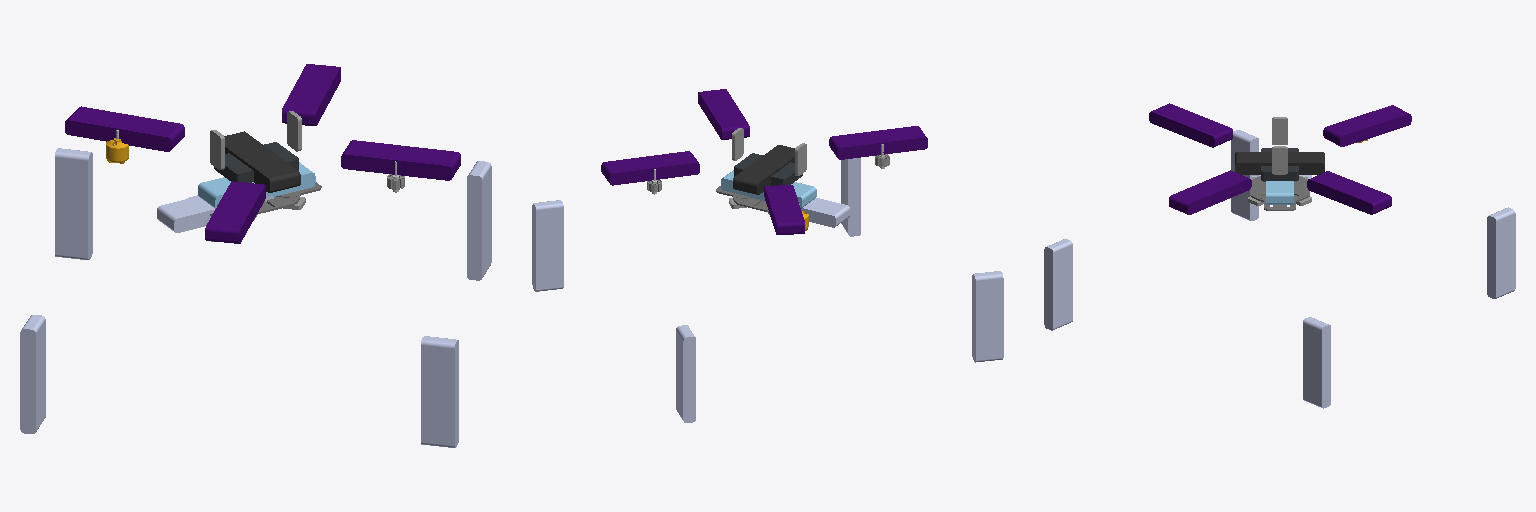
--- What the picture shows (computed from the rendered views, not written in the file) ---
3 views of the same robot in one strip: view 1: azimuth 30°, elevation 25°; view 2: azimuth 150°, elevation 25°; view 3: azimuth 270°, elevation 25° (orthographic).
Robot: drone — 2 links, 1 joints (1 revolute); root link base; default pose: all joints at 0.
Visible links, largest first — view 1: base; view 2: base; view 3: base.
Link boxes in pixels (box(x1,y1,x2,y2)): base: box(20, 64, 491, 447); base: box(532, 89, 1003, 422); base: box(1044, 103, 1515, 408).
Size in the robot's own frame: 0.7062 by 0.7059 by 0.2928 metres.
Meshes: 11 distinct files referenced, 39 mesh visuals loaded (11 binary STL).

URDF robot description (drone):
<?xml version="1.0"?> 
<robot name="drone">
<link name="base">
<visual>
<origin xyz="0.10725828080928455355 -0.12368070875743163162 -0.11526385844228151378" rpy="5.3029251167892299866e-09 3.0186462399647850956e-08 2.3561944917243140551" />
<geometry>
<mesh filename="package://drone_description/drone/bearing_(1).stl"/>
</geometry>
<material name="bearing_(1)_material">
<color rgba="0.79607843137254896693 0.79607843137254896693 0.79607843137254896693 1.0"/>
</material>
</visual>
<collision>
<origin xyz="0.10725828080928455355 -0.12368070875743163162 -0.11526385844228151378" rpy="5.3029251167892299866e-09 3.0186462399647850956e-08 2.3561944917243140551" />
<geometry>
<mesh filename="package://drone_description/drone/bearing_(1).stl"/>
</geometry>
</collision>
<visual>
<origin xyz="-0.13166476884909913969 -0.12269551626916563869 -0.11526386267093170768" rpy="4.9786500591764683148e-09 3.0241636423532828827e-08 2.3454620083268666875" />
<geometry>
<mesh filename="package://drone_description/drone/bearing_(1).stl"/>
</geometry>
<material name="bearing_(1)_material">
<color rgba="0.79607843137254896693 0.79607843137254896693 0.79607843137254896693 1.0"/>
</material>
</visual>
<collision>
<origin xyz="-0.13166476884909913969 -0.12269551626916563869 -0.11526386267093170768" rpy="4.9786500591764683148e-09 3.0241636423532828827e-08 2.3454620083268666875" />
<geometry>
<mesh filename="package://drone_description/drone/bearing_(1).stl"/>
</geometry>
</collision>
<visual>
<origin xyz="-0.13166478693652952647 -0.1226972020018144427 -0.11556386267088972208" rpy="3.0241636423533887618e-08 -4.9786500591762507663e-09 -2.3669269720578283156" />
<geometry>
<mesh filename="package://drone_description/drone/shaft.stl"/>
</geometry>
<material name="shaft_material">
<color rgba="0.79607843137254896693 0.79607843137254896693 0.79607843137254896693 1.0"/>
</material>
</visual>
<collision>
<origin xyz="-0.13166478693652952647 -0.1226972020018144427 -0.11556386267088972208" rpy="3.0241636423533887618e-08 -4.9786500591762507663e-09 -2.3669269720578283156" />
<geometry>
<mesh filename="package://drone_description/drone/shaft.stl"/>
</geometry>
</collision>
<visual>
<origin xyz="-0.07413882831291258857 0.32032456282408366954 -0.27331914839981985565" rpy="5.3453363326856363065e-09 3.0178981201650307123e-08 2.3575996465248816314" />
<geometry>
<mesh filename="package://drone_description/drone/part_1.stl"/>
</geometry>
<material name="part_1_material">
<color rgba="0.79607843137254896693 0.82352941176470584317 0.9372549019607843146 1.0"/>
</material>
</visual>
<collision>
<origin xyz="-0.07413882831291258857 0.32032456282408366954 -0.27331914839981985565" rpy="5.3453363326856363065e-09 3.0178981201650307123e-08 2.3575996465248816314" />
<geometry>
<mesh filename="package://drone_description/drone/part_1.stl"/>
</geometry>
</collision>
<visual>
<origin xyz="-0.011761088134737593749 -0.0046556805626709763662 -0.14170386352337263625" rpy="1.5707963017001100869 -1.7595318037136755201e-08 1.5319689848405809564e-09" />
<geometry>
<mesh filename="package://drone_description/drone/base_link.stl"/>
</geometry>
<material name="base_link_material">
<color rgba="0.50196078431372548323 0.50196078431372548323 0.50196078431372548323 1.0"/>
</material>
</visual>
<collision>
<origin xyz="-0.011761088134737593749 -0.0046556805626709763662 -0.14170386352337263625" rpy="1.5707963017001100869 -1.7595318037136755201e-08 1.5319689848405809564e-09" />
<geometry>
<mesh filename="package://drone_description/drone/base_link.stl"/>
</geometry>
</collision>
<visual>
<origin xyz="0.12222262386309452886 0.099699161150232043505 -0.075481805690831293987" rpy="1.5707963203782309147 -2.9969485115799450137e-08 -0.7483739850706196961" />
<geometry>
<mesh filename="package://drone_description/drone/part_1.stl"/>
</geometry>
<material name="part_1_material">
<color rgba="0.3372549019607843368 0.082352941176470587092 0.50980392156862741615 1.0"/>
</material>
</visual>
<collision>
<origin xyz="0.12222262386309452886 0.099699161150232043505 -0.075481805690831293987" rpy="1.5707963203782309147 -2.9969485115799450137e-08 -0.7483739850706196961" />
<geometry>
<mesh filename="package://drone_description/drone/part_1.stl"/>
</geometry>
</collision>
<visual>
<origin xyz="0.092497762273988856641 -0.022974417048895787175 -0.10776686122920028921" rpy="-1.5707963518992495988 -1.7581666252584100846e-08 0.00054390138592012935836" />
<geometry>
<mesh filename="package://drone_description/drone/part_708.stl"/>
</geometry>
<material name="part_708_material">
<color rgba="0.26274509803921569651 0.28235294117647058432 0.30196078431372547213 1.0"/>
</material>
</visual>
<collision>
<origin xyz="0.092497762273988856641 -0.022974417048895787175 -0.10776686122920028921" rpy="-1.5707963518992495988 -1.7581666252584100846e-08 0.00054390138592012935836" />
<geometry>
<mesh filename="package://drone_description/drone/part_708.stl"/>
</geometry>
</collision>
<visual>
<origin xyz="-0.13090969103575328392 0.11425543860843655197 -0.11526386860387953515" rpy="5.3453363881967891921e-09 3.01789812015723073e-08 2.3575996465248816314" />
<geometry>
<mesh filename="package://drone_description/drone/base.stl"/>
</geometry>
<material name="base_material">
<color rgba="0.90980392156862743835 0.67843137254901964006 0.1372549019607843257 1.0"/>
</material>
</visual>
<collision>
<origin xyz="-0.13090969103575328392 0.11425543860843655197 -0.11526386860387953515" rpy="5.3453363881967891921e-09 3.01789812015723073e-08 2.3575996465248816314" />
<geometry>
<mesh filename="package://drone_description/drone/base.stl"/>
</geometry>
</collision>
<visual>
<origin xyz="0.036476248865039959113 -0.0046556780322238606323 -0.043813048208914170956" rpy="-1.5707963283268655541 1.5707962961461849893 0" />
<geometry>
<mesh filename="package://drone_description/drone/part_2.stl"/>
</geometry>
<material name="part_2_material">
<color rgba="0.64705882352941179736 0.64705882352941179736 0.64705882352941179736 1.0"/>
</material>
</visual>
<collision>
<origin xyz="0.036476248865039959113 -0.0046556780322238606323 -0.043813048208914170956" rpy="-1.5707963283268655541 1.5707962961461849893 0" />
<geometry>
<mesh filename="package://drone_description/drone/part_2.stl"/>
</geometry>
</collision>
<visual>
<origin xyz="0.10725828081456187379 -0.12368070876495991517 -0.11556385844228085624" rpy="5.3029251167894243741e-09 3.0186462399647844338e-08 2.3561944917243176079" />
<geometry>
<mesh filename="package://drone_description/drone/shaft.stl"/>
</geometry>
<material name="shaft_material">
<color rgba="0.79607843137254896693 0.79607843137254896693 0.79607843137254896693 1.0"/>
</material>
</visual>
<collision>
<origin xyz="0.10725828081456187379 -0.12368070876495991517 -0.11556385844228085624" rpy="5.3029251167894243741e-09 3.0186462399647844338e-08 2.3561944917243176079" />
<geometry>
<mesh filename="package://drone_description/drone/shaft.stl"/>
</geometry>
</collision>
<visual>
<origin xyz="-0.067401087923593783202 -0.0046556809490468043997 -0.15370386450237616405" rpy="-1.5707963443902155376 2.5094786422119920107e-08 1.57079632832686511" />
<geometry>
<mesh filename="package://drone_description/drone/part_2.stl"/>
</geometry>
<material name="part_2_material">
<color rgba="0.79607843137254896693 0.82352941176470584317 0.9372549019607843146 1.0"/>
</material>
</visual>
<collision>
<origin xyz="-0.067401087923593783202 -0.0046556809490468043997 -0.15370386450237616405" rpy="-1.5707963443902155376 2.5094786422119920107e-08 1.57079632832686511" />
<geometry>
<mesh filename="package://drone_description/drone/part_2.stl"/>
</geometry>
</collision>
<visual>
<origin xyz="-0.13166476884909913969 -0.12269551626916563869 -0.11526386267093170768" rpy="4.9786500591764683148e-09 3.0241636423532828827e-08 2.3454620083268666875" />
<geometry>
<mesh filename="package://drone_description/drone/stator_(1).stl"/>
</geometry>
<material name="stator_(1)_material">
<color rgba="0.62745098039215685404 0.62745098039215685404 0.62745098039215685404 1.0"/>
</material>
</visual>
<collision>
<origin xyz="-0.13166476884909913969 -0.12269551626916563869 -0.11526386267093170768" rpy="4.9786500591764683148e-09 3.0241636423532828827e-08 2.3454620083268666875" />
<geometry>
<mesh filename="package://drone_description/drone/stator_(1).stl"/>
</geometry>
</collision>
<visual>
<origin xyz="0.10725828225867109489 0.11437103283736063664 -0.11526386441613911682" rpy="5.3029250058269659473e-09 3.0186462352702465987e-08 2.3561944917243140551" />
<geometry>
<mesh filename="package://drone_description/drone/bearing_(1).stl"/>
</geometry>
<material name="bearing_(1)_material">
<color rgba="0.79607843137254896693 0.79607843137254896693 0.79607843137254896693 1.0"/>
</material>
</visual>
<collision>
<origin xyz="0.10725828225867109489 0.11437103283736063664 -0.11526386441613911682" rpy="5.3029250058269659473e-09 3.0186462352702465987e-08 2.3561944917243140551" />
<geometry>
<mesh filename="package://drone_description/drone/bearing_(1).stl"/>
</geometry>
</collision>
<visual>
<origin xyz="-0.11428222729544193492 0.12643219728810453639 -0.075280213133669005021" rpy="1.5707962961790216116 1.4183509176395513363e-09 0.65779445713027551168" />
<geometry>
<mesh filename="package://drone_description/drone/part_1.stl"/>
</geometry>
<material name="part_1_material">
<color rgba="0.3372549019607843368 0.082352941176470587092 0.50980392156862741615 1.0"/>
</material>
</visual>
<collision>
<origin xyz="-0.11428222729544193492 0.12643219728810453639 -0.075280213133669005021" rpy="1.5707962961790216116 1.4183509176395513363e-09 0.65779445713027551168" />
<geometry>
<mesh filename="package://drone_description/drone/part_1.stl"/>
</geometry>
</collision>
<visual>
<origin xyz="-0.055911093395477222401 -0.047009634966513433318 -0.14720386323734258038" rpy="-1.5707963569813589988 5.3029249503157204175e-09 0.78539816492941694204" />
<geometry>
<mesh filename="package://drone_description/drone/part_2.stl"/>
</geometry>
<material name="part_2_material">
<color rgba="0.64705882352941179736 0.64705882352941179736 0.64705882352941179736 1.0"/>
</material>
</visual>
<collision>
<origin xyz="-0.055911093395477222401 -0.047009634966513433318 -0.14720386323734258038" rpy="-1.5707963569813589988 5.3029249503157204175e-09 0.78539816492941694204" />
<geometry>
<mesh filename="package://drone_description/drone/part_2.stl"/>
</geometry>
</collision>
<visual>
<origin xyz="-0.11685875168631122689 -0.13752714443789013088 -0.075481803944400516215" rpy="1.5707963207002426653 -3.0036623019969458674e-08 -0.75910646846804152865" />
<geometry>
<mesh filename="package://drone_description/drone/part_1.stl"/>
</geometry>
<material name="part_1_material">
<color rgba="0.3372549019607843368 0.082352941176470587092 0.50980392156862741615 1.0"/>
</material>
</visual>
<collision>
<origin xyz="-0.11685875168631122689 -0.13752714443789013088 -0.075481803944400516215" rpy="1.5707963207002426653 -3.0036623019969458674e-08 -0.75910646846804152865" />
<geometry>
<mesh filename="package://drone_description/drone/part_1.stl"/>
</geometry>
</collision>
<visual>
<origin xyz="-0.33702968600498595109 -0.063429396664676271356 -0.2733191433952443794" rpy="3.0241636422937133055e-08 -4.9786500036684429991e-09 -2.3669269720578234306" />
<geometry>
<mesh filename="package://drone_description/drone/part_1.stl"/>
</geometry>
<material name="part_1_material">
<color rgba="0.79607843137254896693 0.82352941176470584317 0.9372549019607843146 1.0"/>
</material>
</visual>
<collision>
<origin xyz="-0.33702968600498595109 -0.063429396664676271356 -0.2733191433952443794" rpy="3.0241636422937133055e-08 -4.9786500036684429991e-09 -2.3669269720578234306" />
<geometry>
<mesh filename="package://drone_description/drone/part_1.stl"/>
</geometry>
</collision>
<visual>
<origin xyz="0.050199606587183906448 -0.32967155147029197915 -0.2733191299005318653" rpy="-5.3029250612780555943e-09 -3.0186462399647857573e-08 -0.78539816186547939392" />
<geometry>
<mesh filename="package://drone_description/drone/part_1.stl"/>
</geometry>
<material name="part_1_material">
<color rgba="0.79607843137254896693 0.82352941176470584317 0.9372549019607843146 1.0"/>
</material>
</visual>
<collision>
<origin xyz="0.050199606587183906448 -0.32967155147029197915 -0.2733191299005318653" rpy="-5.3029250612780555943e-09 -3.0186462399647857573e-08 -0.78539816186547939392" />
<geometry>
<mesh filename="package://drone_description/drone/part_1.stl"/>
</geometry>
</collision>
<visual>
<origin xyz="-0.006397966516690121834 -0.011814853426995713254 -0.14720386324934892075" rpy="-1.570796332097821546 -3.0186462352702452752e-08 -0.78539816186547917187" />
<geometry>
<mesh filename="package://drone_description/drone/part_2.stl"/>
</geometry>
<material name="part_2_material">
<color rgba="0.64705882352941179736 0.64705882352941179736 0.64705882352941179736 1.0"/>
</material>
</visual>
<collision>
<origin xyz="-0.006397966516690121834 -0.011814853426995713254 -0.14720386324934892075" rpy="-1.570796332097821546 -3.0186462352702452752e-08 -0.78539816186547917187" />
<geometry>
<mesh filename="package://drone_description/drone/part_2.stl"/>
</geometry>
</collision>
<visual>
<origin xyz="0.10725828080928455355 -0.12368070875743163162 -0.11526385844228151378" rpy="5.3029251167892299866e-09 3.0186462399647850956e-08 2.3561944917243140551" />
<geometry>
<mesh filename="package://drone_description/drone/bearing.stl"/>
</geometry>
<material name="bearing_material">
<color rgba="0.79607843137254896693 0.79607843137254896693 0.79607843137254896693 1.0"/>
</material>
</visual>
<collision>
<origin xyz="0.10725828080928455355 -0.12368070875743163162 -0.11526385844228151378" rpy="5.3029251167892299866e-09 3.0186462399647850956e-08 2.3561944917243140551" />
<geometry>
<mesh filename="package://drone_description/drone/bearing.stl"/>
</geometry>
</collision>
<visual>
<origin xyz="0.10725828080928455355 -0.12368070875743163162 -0.11526385844228151378" rpy="5.3029251167892299866e-09 3.0186462399647850956e-08 2.3561944917243140551" />
<geometry>
<mesh filename="package://drone_description/drone/stator_(1).stl"/>
</geometry>
<material name="stator_(1)_material">
<color rgba="0.62745098039215685404 0.62745098039215685404 0.62745098039215685404 1.0"/>
</material>
</visual>
<collision>
<origin xyz="0.10725828080928455355 -0.12368070875743163162 -0.11526385844228151378" rpy="5.3029251167892299866e-09 3.0186462399647850956e-08 2.3561944917243140551" />
<geometry>
<mesh filename="package://drone_description/drone/stator_(1).stl"/>
</geometry>
</collision>
<visual>
<origin xyz="0.10725828226395230092 0.11436934700762103889 -0.11556386441609681204" rpy="3.0186462352702274081e-08 -5.3029250058278791547e-09 -2.3561944886603432003" />
<geometry>
<mesh filename="package://drone_description/drone/shaft.stl"/>
</geometry>
<material name="shaft_material">
<color rgba="0.79607843137254896693 0.79607843137254896693 0.79607843137254896693 1.0"/>
</material>
</visual>
<collision>
<origin xyz="0.10725828226395230092 0.11436934700762103889 -0.11556386441609681204" rpy="3.0186462352702274081e-08 -5.3029250058278791547e-09 -2.3561944886603432003" />
<geometry>
<mesh filename="package://drone_description/drone/shaft.stl"/>
</geometry>
</collision>
<visual>
<origin xyz="0.31324912378620350939 0.057310666045652783329 -0.27331913498332799373" rpy="-3.0186462352702538779e-08 5.3029249503157402698e-09 0.78539816492941738613" />
<geometry>
<mesh filename="package://drone_description/drone/part_1.stl"/>
</geometry>
<material name="part_1_material">
<color rgba="0.79607843137254896693 0.82352941176470584317 0.9372549019607843146 1.0"/>
</material>
</visual>
<collision>
<origin xyz="0.31324912378620350939 0.057310666045652783329 -0.27331913498332799373" rpy="-3.0186462352702538779e-08 5.3029249503157402698e-09 0.78539816492941738613" />
<geometry>
<mesh filename="package://drone_description/drone/part_1.stl"/>
</geometry>
</collision>
<visual>
<origin xyz="0.12220087045254056368 -0.10948709347222465582 -0.075280203052328825697" rpy="1.5707962966084341172 5.3029251167891216259e-09 0.78539816492941438852" />
<geometry>
<mesh filename="package://drone_description/drone/part_1.stl"/>
</geometry>
<material name="part_1_material">
<color rgba="0.3372549019607843368 0.082352941176470587092 0.50980392156862741615 1.0"/>
</material>
</visual>
<collision>
<origin xyz="0.12220087045254056368 -0.10948709347222465582 -0.075280203052328825697" rpy="1.5707962966084341172 5.3029251167891216259e-09 0.78539816492941438852" />
<geometry>
<mesh filename="package://drone_description/drone/part_1.stl"/>
</geometry>
</collision>
<visual>
<origin xyz="-0.13090969103575328392 0.11425543860843655197 -0.11526386860387953515" rpy="5.3453363881967891921e-09 3.01789812015723073e-08 2.3575996465248816314" />
<geometry>
<mesh filename="package://drone_description/drone/bearing_(1).stl"/>
</geometry>
<material name="bearing_(1)_material">
<color rgba="0.79607843137254896693 0.79607843137254896693 0.79607843137254896693 1.0"/>
</material>
</visual>
<collision>
<origin xyz="-0.13090969103575328392 0.11425543860843655197 -0.11526386860387953515" rpy="5.3453363881967891921e-09 3.01789812015723073e-08 2.3575996465248816314" />
<geometry>
<mesh filename="package://drone_description/drone/bearing_(1).stl"/>
</geometry>
</collision>
<visual>
<origin xyz="-0.13090953204261934761 0.11425557238870664989 -0.1155638686038800711" rpy="2.3603598445484995406e-11 3.0648702506707288111e-08 2.1830667213254604242" />
<geometry>
<mesh filename="package://drone_description/drone/shaft.stl"/>
</geometry>
<material name="shaft_material">
<color rgba="0.79607843137254896693 0.79607843137254896693 0.79607843137254896693 1.0"/>
</material>
</visual>
<collision>
<origin xyz="-0.13090953204261934761 0.11425557238870664989 -0.1155638686038800711" rpy="2.3603598445484995406e-11 3.0648702506707288111e-08 2.1830667213254604242" />
<geometry>
<mesh filename="package://drone_description/drone/shaft.stl"/>
</geometry>
</collision>
<visual>
<origin xyz="0.10725828225867109489 0.11437103283736063664 -0.11526386441613911682" rpy="5.3029250058269659473e-09 3.0186462352702465987e-08 2.3561944917243140551" />
<geometry>
<mesh filename="package://drone_description/drone/bearing.stl"/>
</geometry>
<material name="bearing_material">
<color rgba="0.79607843137254896693 0.79607843137254896693 0.79607843137254896693 1.0"/>
</material>
</visual>
<collision>
<origin xyz="0.10725828225867109489 0.11437103283736063664 -0.11526386441613911682" rpy="5.3029250058269659473e-09 3.0186462352702465987e-08 2.3561944917243140551" />
<geometry>
<mesh filename="package://drone_description/drone/bearing.stl"/>
</geometry>
</collision>
<visual>
<origin xyz="0.10725828225867109489 0.11437103283736063664 -0.11526386441613911682" rpy="5.3029250058269659473e-09 3.0186462352702465987e-08 2.3561944917243140551" />
<geometry>
<mesh filename="package://drone_description/drone/stator_(1).stl"/>
</geometry>
<material name="stator_(1)_material">
<color rgba="0.62745098039215685404 0.62745098039215685404 0.62745098039215685404 1.0"/>
</material>
</visual>
<collision>
<origin xyz="0.10725828225867109489 0.11437103283736063664 -0.11526386441613911682" rpy="5.3029250058269659473e-09 3.0186462352702465987e-08 2.3561944917243140551" />
<geometry>
<mesh filename="package://drone_description/drone/stator_(1).stl"/>
</geometry>
</collision>
<visual>
<origin xyz="-0.011941618999620963459 -0.0046224485577668122591 -0.10776686352738316932" rpy="-1.5707963518992495988 -1.7581666252584117389e-08 0.00054390138591957403" />
<geometry>
<mesh filename="package://drone_description/drone/part_1.stl"/>
</geometry>
<material name="part_1_material">
<color rgba="0.25098039215686274161 0.25098039215686274161 0.25098039215686274161 1.0"/>
</material>
</visual>
<collision>
<origin xyz="-0.011941618999620963459 -0.0046224485577668122591 -0.10776686352738316932" rpy="-1.5707963518992495988 -1.7581666252584117389e-08 0.00054390138591957403" />
<geometry>
<mesh filename="package://drone_description/drone/part_1.stl"/>
</geometry>
</collision>
<visual>
<origin xyz="-0.067398426557814680726 -0.0046556810745165145421 -0.15870386450232859543" rpy="-1.5707963443902168699 2.509477485729677781e-08 1.5707963283268668864" />
<geometry>
<mesh filename="package://drone_description/drone/part_3.stl"/>
</geometry>
<material name="part_3_material">
<color rgba="0.79607843137254896693 0.82352941176470584317 0.9372549019607843146 1.0"/>
</material>
</visual>
<collision>
<origin xyz="-0.067398426557814680726 -0.0046556810745165145421 -0.15870386450232859543" rpy="-1.5707963443902168699 2.509477485729677781e-08 1.5707963283268668864" />
<geometry>
<mesh filename="package://drone_description/drone/part_3.stl"/>
</geometry>
</collision>
<visual>
<origin xyz="-0.067401087923593783202 -0.0046556809490468043997 -0.15370386450237616405" rpy="-1.5707963443902155376 2.5094786422119920107e-08 1.57079632832686511" />
<geometry>
<mesh filename="package://drone_description/drone/part_1.stl"/>
</geometry>
<material name="part_1_material">
<color rgba="0.79607843137254896693 0.82352941176470584317 0.9372549019607843146 1.0"/>
</material>
</visual>
<collision>
<origin xyz="-0.067401087923593783202 -0.0046556809490468043997 -0.15370386450237616405" rpy="-1.5707963443902155376 2.5094786422119920107e-08 1.57079632832686511" />
<geometry>
<mesh filename="package://drone_description/drone/part_1.stl"/>
</geometry>
</collision>
<visual>
<origin xyz="-0.055911093525246112479 0.037698273429855641559 -0.1472038653630695082" rpy="-1.570796332097821546 -3.018646235270245937e-08 -0.78539816186547928289" />
<geometry>
<mesh filename="package://drone_description/drone/part_2.stl"/>
</geometry>
<material name="part_2_material">
<color rgba="0.64705882352941179736 0.64705882352941179736 0.64705882352941179736 1.0"/>
</material>
</visual>
<collision>
<origin xyz="-0.055911093525246112479 0.037698273429855641559 -0.1472038653630695082" rpy="-1.570796332097821546 -3.018646235270245937e-08 -0.78539816186547928289" />
<geometry>
<mesh filename="package://drone_description/drone/part_2.stl"/>
</geometry>
</collision>
<visual>
<origin xyz="-0.011936041911916795213 -0.0046199547835331722725 -0.13716386352734760701" rpy="-1.5707963092132299909 -2.510435299888191753e-08 -1.5702524254089769151" />
<geometry>
<mesh filename="package://drone_description/drone/part_1.stl"/>
</geometry>
<material name="part_1_material">
<color rgba="0.61568627450980395466 0.81176470588235294379 0.92941176470588238168 1.0"/>
</material>
</visual>
<collision>
<origin xyz="-0.011936041911916795213 -0.0046199547835331722725 -0.13716386352734760701" rpy="-1.5707963092132299909 -2.510435299888191753e-08 -1.5702524254089769151" />
<geometry>
<mesh filename="package://drone_description/drone/part_1.stl"/>
</geometry>
</collision>
<visual>
<origin xyz="-0.13166476884909913969 -0.12269551626916563869 -0.11526386267093170768" rpy="4.9786500591764683148e-09 3.0241636423532828827e-08 2.3454620083268666875" />
<geometry>
<mesh filename="package://drone_description/drone/bearing.stl"/>
</geometry>
<material name="bearing_material">
<color rgba="0.79607843137254896693 0.79607843137254896693 0.79607843137254896693 1.0"/>
</material>
</visual>
<collision>
<origin xyz="-0.13166476884909913969 -0.12269551626916563869 -0.11526386267093170768" rpy="4.9786500591764683148e-09 3.0241636423532828827e-08 2.3454620083268666875" />
<geometry>
<mesh filename="package://drone_description/drone/bearing.stl"/>
</geometry>
</collision>
<visual>
<origin xyz="-0.13090969103575328392 0.11425543860843655197 -0.11526386860387953515" rpy="5.3453363881967891921e-09 3.01789812015723073e-08 2.3575996465248816314" />
<geometry>
<mesh filename="package://drone_description/drone/bearing.stl"/>
</geometry>
<material name="bearing_material">
<color rgba="0.79607843137254896693 0.79607843137254896693 0.79607843137254896693 1.0"/>
</material>
</visual>
<collision>
<origin xyz="-0.13090969103575328392 0.11425543860843655197 -0.11526386860387953515" rpy="5.3453363881967891921e-09 3.01789812015723073e-08 2.3575996465248816314" />
<geometry>
<mesh filename="package://drone_description/drone/bearing.stl"/>
</geometry>
</collision>
<visual>
<origin xyz="-0.13090969103575328392 0.11425543860843655197 -0.11526386860387953515" rpy="5.3453363881967891921e-09 3.01789812015723073e-08 2.3575996465248816314" />
<geometry>
<mesh filename="package://drone_description/drone/stator_(1).stl"/>
</geometry>
<material name="stator_(1)_material">
<color rgba="0.62745098039215685404 0.62745098039215685404 0.62745098039215685404 1.0"/>
</material>
</visual>
<collision>
<origin xyz="-0.13090969103575328392 0.11425543860843655197 -0.11526386860387953515" rpy="5.3453363881967891921e-09 3.01789812015723073e-08 2.3575996465248816314" />
<geometry>
<mesh filename="package://drone_description/drone/stator_(1).stl"/>
</geometry>
</collision>
<visual>
<origin xyz="-0.061998428579355009671 -0.0046556781830838613392 -0.04381304994160353794" rpy="1.570796325262928006 1.5707962961461874318 0" />
<geometry>
<mesh filename="package://drone_description/drone/part_2.stl"/>
</geometry>
<material name="part_2_material">
<color rgba="0.64705882352941179736 0.64705882352941179736 0.64705882352941179736 1.0"/>
</material>
</visual>
<collision>
<origin xyz="-0.061998428579355009671 -0.0046556781830838613392 -0.04381304994160353794" rpy="1.570796325262928006 1.5707962961461874318 0" />
<geometry>
<mesh filename="package://drone_description/drone/part_2.stl"/>
</geometry>
</collision>
<visual>
<origin xyz="-0.0063979665386249308379 0.0025034920420436675495 -0.14720386360866474784" rpy="-1.5707963569813592208 5.3029249503157162816e-09 0.78539816492941683101" />
<geometry>
<mesh filename="package://drone_description/drone/part_2.stl"/>
</geometry>
<material name="part_2_material">
<color rgba="0.64705882352941179736 0.64705882352941179736 0.64705882352941179736 1.0"/>
</material>
</visual>
<collision>
<origin xyz="-0.0063979665386249308379 0.0025034920420436675495 -0.14720386360866474784" rpy="-1.5707963569813592208 5.3029249503157162816e-09 0.78539816492941683101" />
<geometry>
<mesh filename="package://drone_description/drone/part_2.stl"/>
</geometry>
</collision>
<inertial>
<origin xyz="-0.018492316571352647447 -0.0031929125071181838243 -0.12350326623699708906" rpy="0 0 0"/>
<mass value="1.0098220097908370274" />
<inertia ixx="0.003799860997616030106" ixy="0.00015973614039820776579"  ixz="-0.00016916772112359919063" iyy="0.0046870933985575071248" iyz="-2.2698857104911772403e-05" izz="0.0074619911966305654122" />
</inertial>
</link>

<link name="rotor_(1)">
<visual>
<origin xyz="1.1920563173228870824e-06 0 0.0052999999999999852784" rpy="3.141592653589793116 -3.7586827828529462082e-25 -8.029544100816100829e-17" />
<geometry>
<mesh filename="package://drone_description/drone/rotor_(1).stl"/>
</geometry>
<material name="rotor_(1)_material">
<color rgba="0.90980392156862743835 0.67843137254901964006 0.1372549019607843257 1.0"/>
</material>
</visual>
<collision>
<origin xyz="1.1920563173228870824e-06 0 0.0052999999999999852784" rpy="3.141592653589793116 -3.7586827828529462082e-25 -8.029544100816100829e-17" />
<geometry>
<mesh filename="package://drone_description/drone/rotor_(1).stl"/>
</geometry>
</collision>
<inertial>
<origin xyz="-1.5953845385608197852e-05 2.4104010847084786851e-08 -0.012722909397237247564" rpy="0 0 0"/>
<mass value="0.025202944233277079639" />
<inertia ixx="2.4686671416069803106e-06" ixy="-1.0098181834664251935e-12"  ixz="-2.8929556565488780022e-09" iyy="2.4673073375771037804e-06" iyz="1.89346253979868054e-12" izz="3.2942510964570318796e-06" />
</inertial>
</link>

<joint name="m1" type="revolute">
<origin xyz="-0.13090884702903499148 0.11425459700805856711 -0.1102638686038435456" rpy="-3.1415926535661897745 3.0648702506707288111e-08 2.1830667213254604242" />
<parent link="base" />
<child link="rotor_(1)" />
<axis xyz="0 0 1"/>
<limit effort="1" velocity="20" />
<joint_properties friction="0.0"/>
</joint>


</robot>
